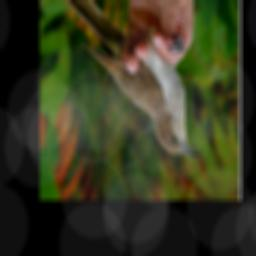Cuckoo: (45, 0, 199, 161)
